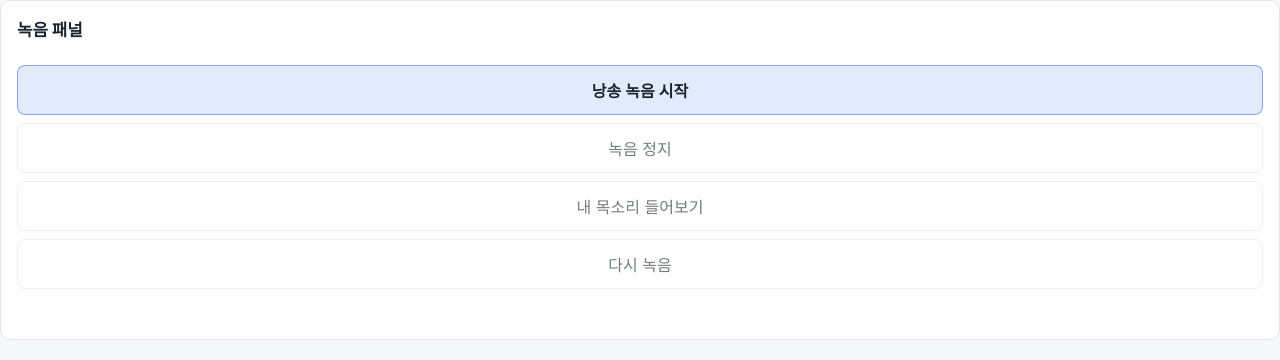
Test: RecorderPanel › keeps recording controls active after React StrictMode effect replay
Click the button "낭송 녹음 시작" at (640, 90), box x1=17 y1=65 x2=1263 y2=115
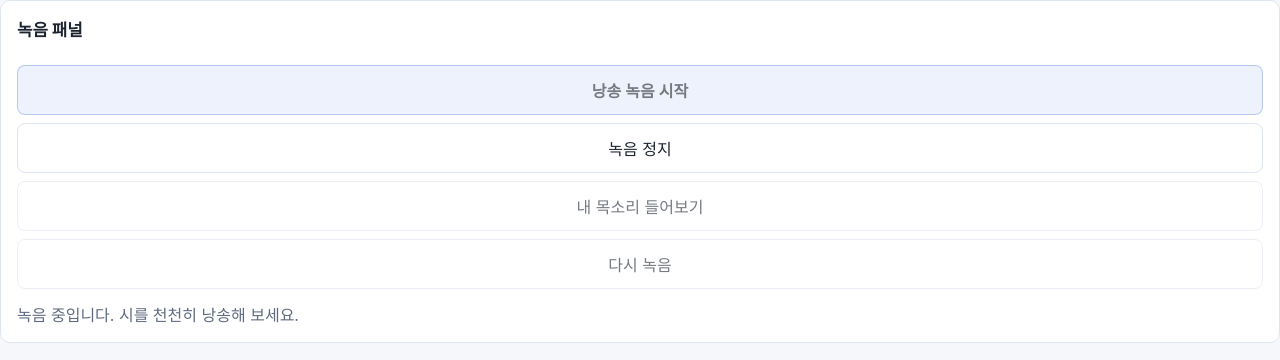
Expected: the button "녹음 정지" is enabled, x1=17 y1=123 x2=1263 y2=173
Expected: the message reads "녹음 중입니다. 시를 천천히 낭송해 보세요.", x1=17 y1=305 x2=299 y2=325
